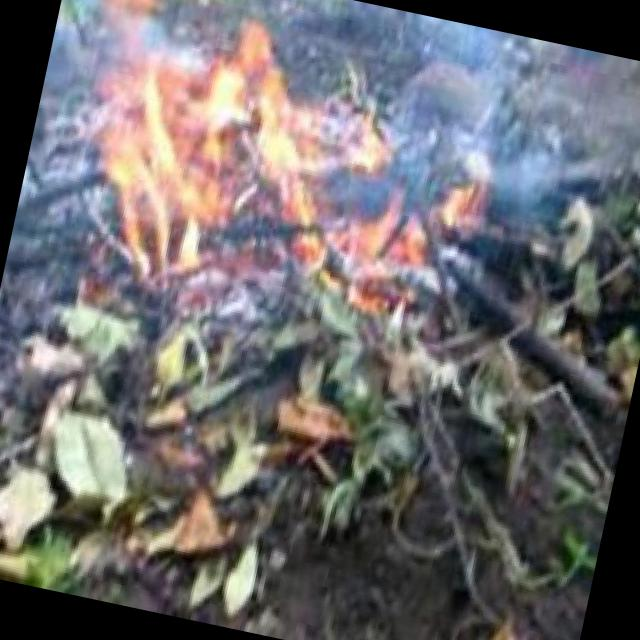Fire: (36, 0, 530, 357)
